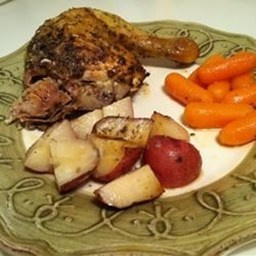background: (1, 2, 102, 84)
